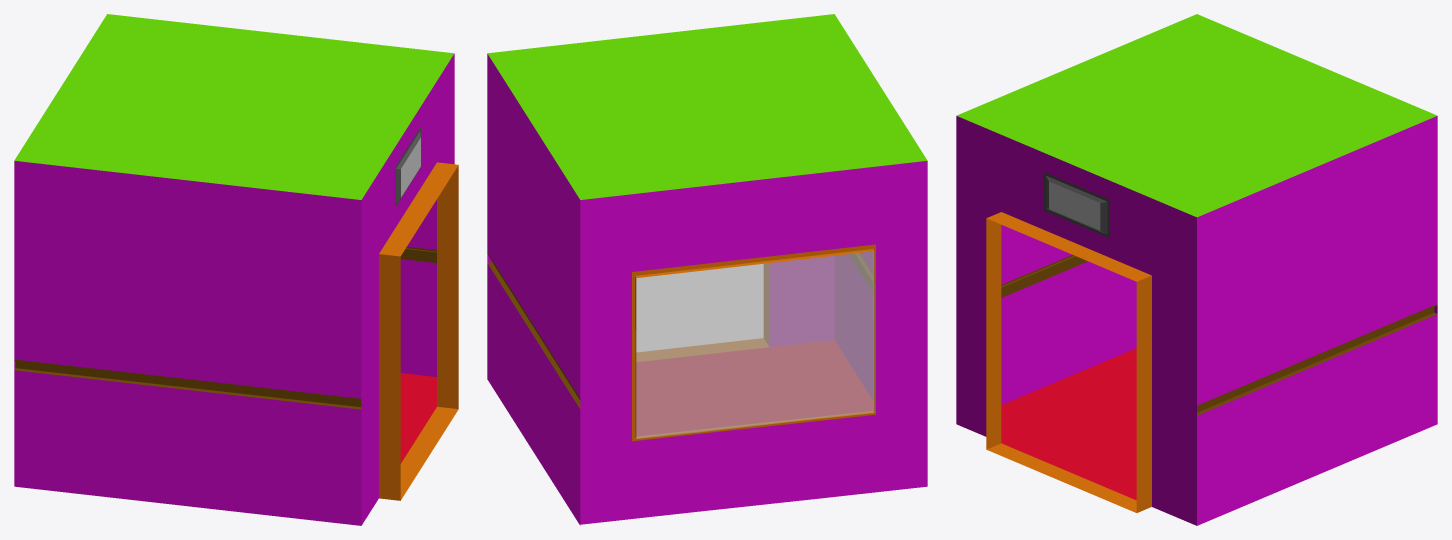
File: Lift_v3.0.fbx
3 renders of one model, left to right at view 1: azimuth 30°, elevation 25°; view 2: azimuth 150°, elevation 25°; view 3: azimuth 270°, elevation 25°, orthographic. The views are drawn at different scales.
Visible parts, largest first — view 1: polySurface2833; view 2: polySurface2833; view 3: polySurface2833.
Part boxes in pixels (x1,y1,x2,y2): polySurface2833: (14, 14, 458, 525); polySurface2833: (487, 14, 927, 525); polySurface2833: (956, 14, 1437, 525).
Bounding box in the file's own units: 566 × 400 × 566.
